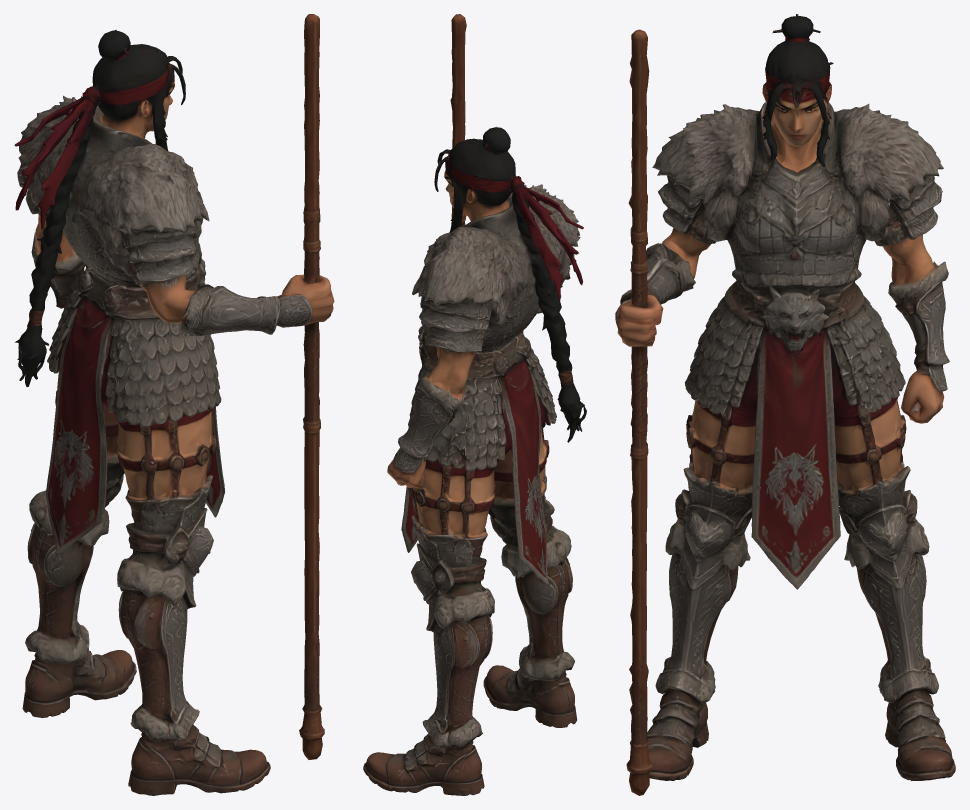
Rendered from vanguardalt_T3-tripo.glb.
3 renders of one model, left to right at view 1: azimuth 30°, elevation 25°; view 2: azimuth 150°, elevation 25°; view 3: azimuth 270°, elevation 25°, orthographic. The views are drawn at different scales.
Visible parts, largest first — view 1: tripo_node_53fdd1f9-2cb9-4d44-a227-a0616930ddcb; view 2: tripo_node_53fdd1f9-2cb9-4d44-a227-a0616930ddcb; view 3: tripo_node_53fdd1f9-2cb9-4d44-a227-a0616930ddcb.
Boxes of the visible parts, x1,y1,x2,y2 form: tripo_node_53fdd1f9-2cb9-4d44-a227-a0616930ddcb: (14,14,334,795); tripo_node_53fdd1f9-2cb9-4d44-a227-a0616930ddcb: (363,14,586,795); tripo_node_53fdd1f9-2cb9-4d44-a227-a0616930ddcb: (615,14,955,795).
Size of the model in its own units: 0.3305 by 1 by 0.396.
1 material, 1 textured.
